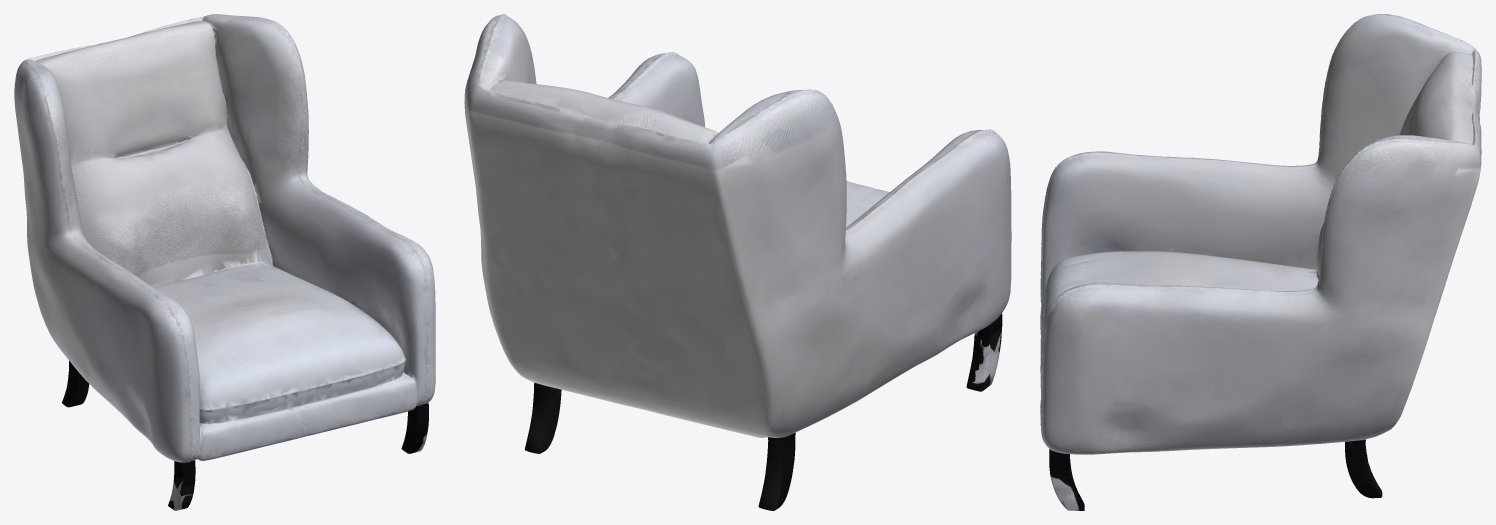
The model's file is armchair.glb.
3 views of the same model, side by side, from view 1: azimuth 30°, elevation 25°; view 2: azimuth 150°, elevation 25°; view 3: azimuth 270°, elevation 25° (orthographic). The views are drawn at different scales.
Size of the model in its own units: 0.8438 by 0.9598 by 1.04.
Materials: 1 (1 with a texture image).
